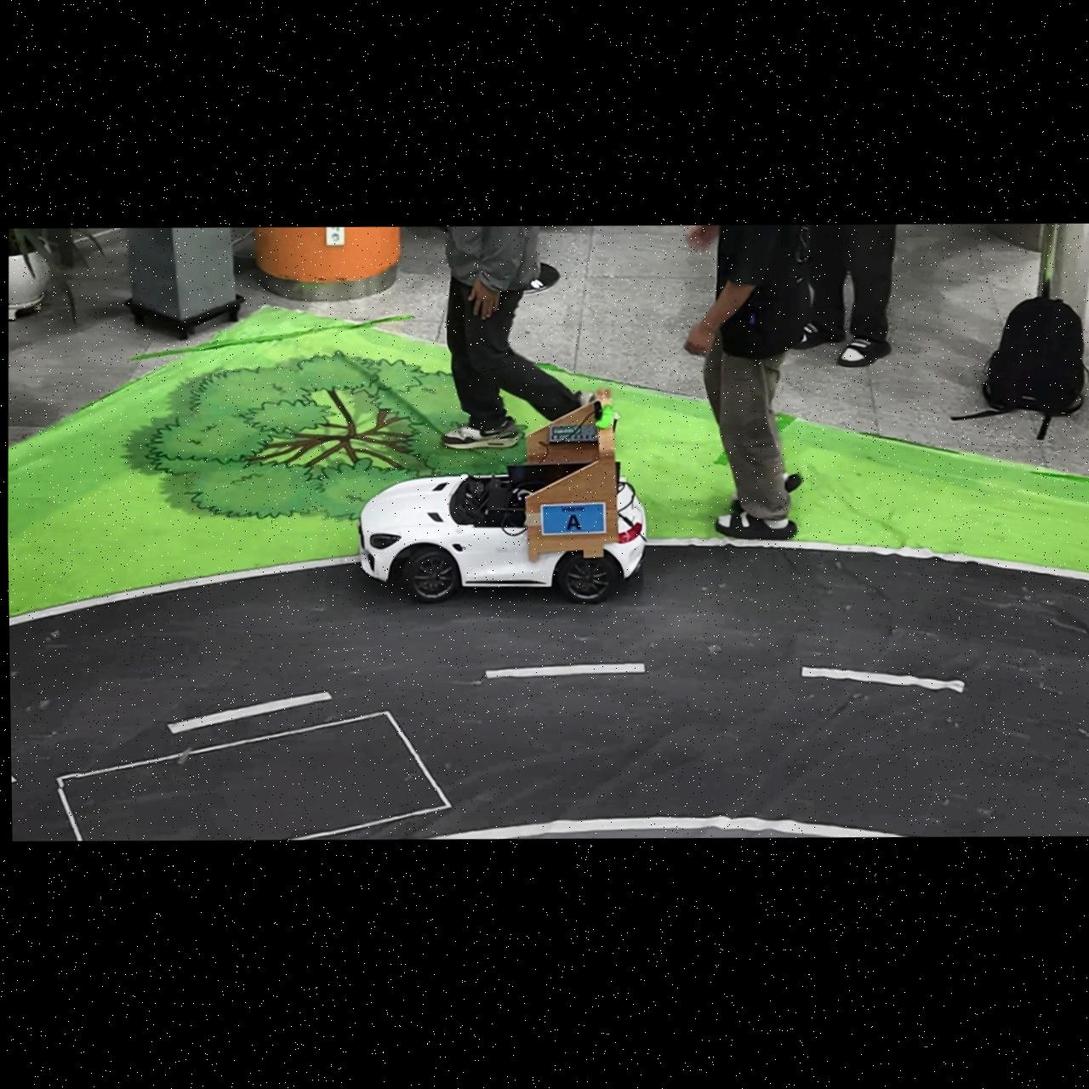broken_line: (167, 691, 333, 734), (802, 667, 965, 693), (485, 663, 646, 678), (11, 776, 17, 783)
